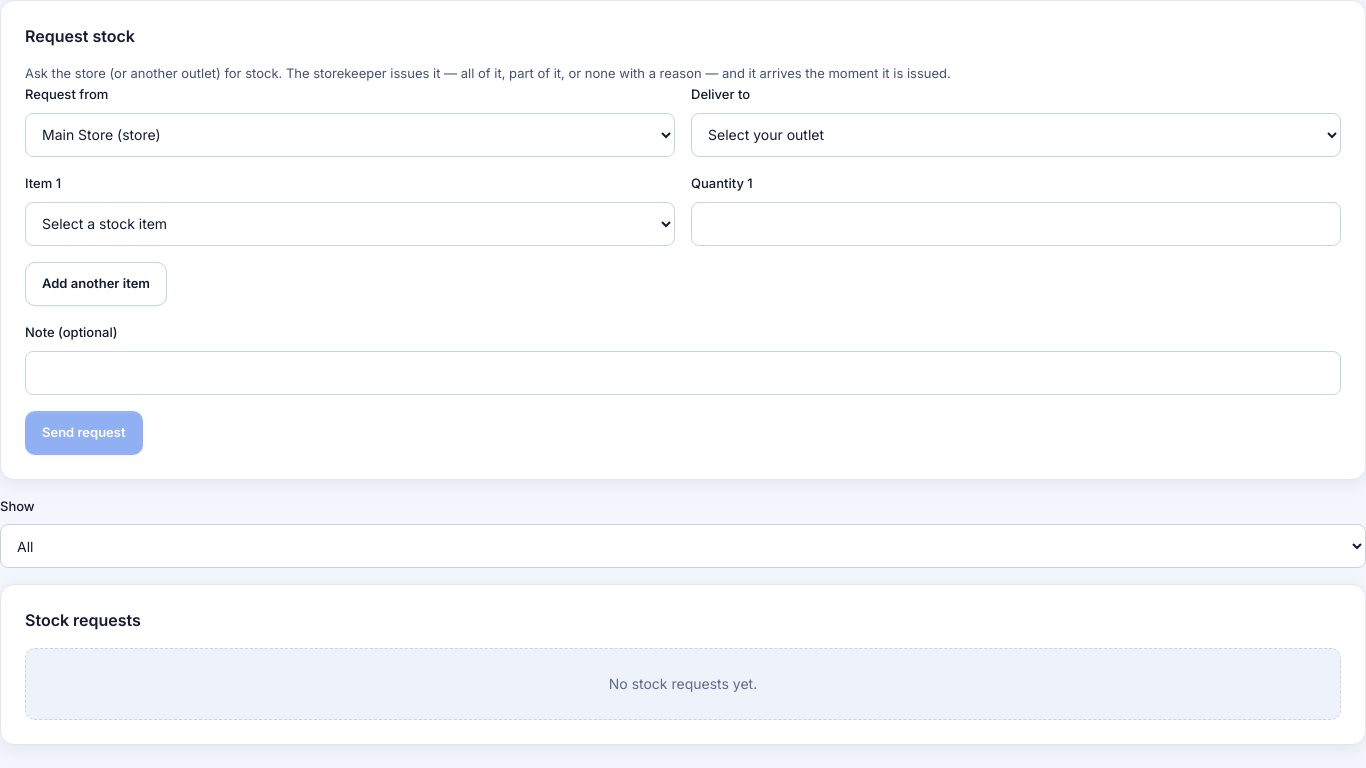
Test: <StockRequestsTab> › raising a request › everyone else keeps the free form › a restricted user assigned to the bar AND the mart: choosing the mart switches the supplier to the store and clears the lines
The width and height of the screenshot is (1366, 768).
Select "Main Bar" in the dropdown labelled "Request from". click: (350, 135)
box: top-left (25, 113), bottom-right (675, 157)
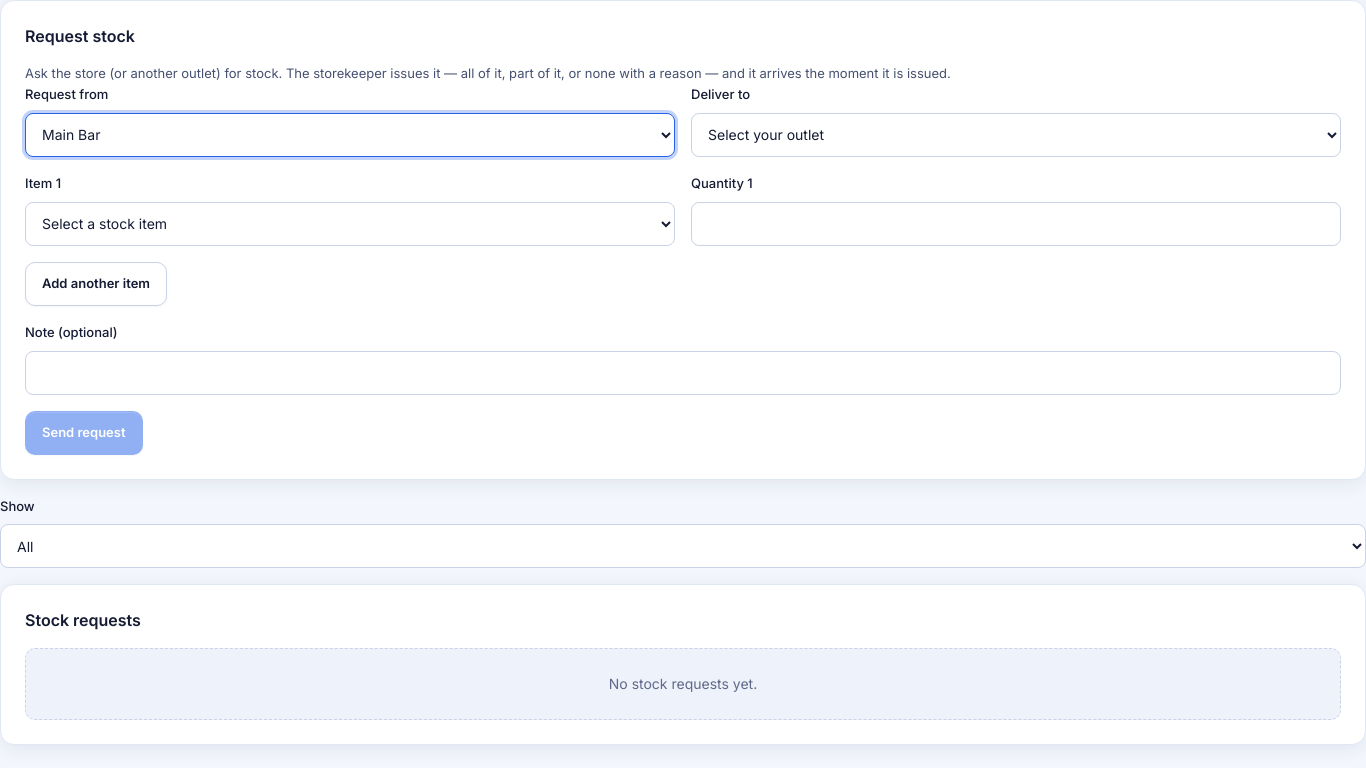
Select "Main Bar" in the dropdown labelled "Deliver to". click: (1016, 135)
box: top-left (691, 113), bottom-right (1341, 157)
Select "Gin (bottle)" in the dropdown labelled "Item 1". click: (350, 224)
box: top-left (25, 202), bottom-right (675, 246)
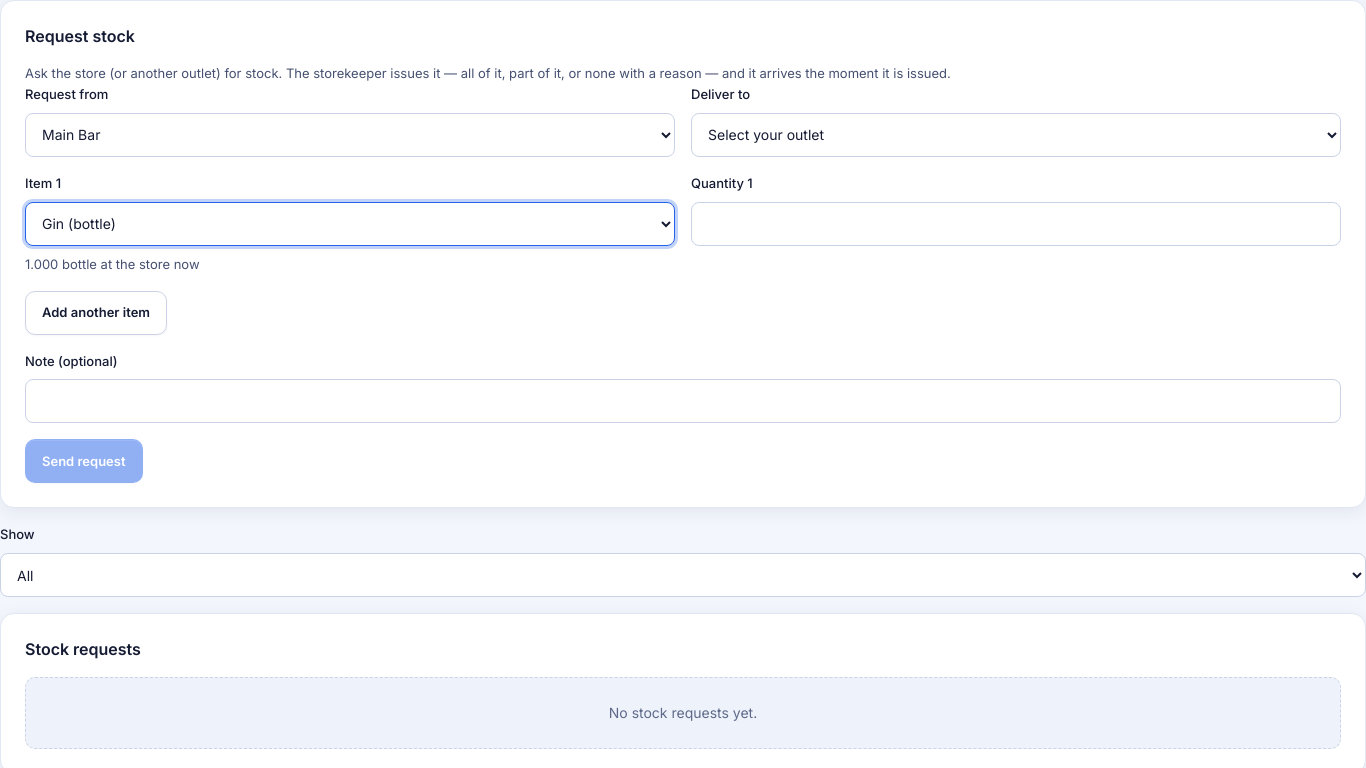
Select "Mini Mart" in the dropdown labelled "Deliver to". click: (1016, 135)
box: top-left (691, 113), bottom-right (1341, 157)
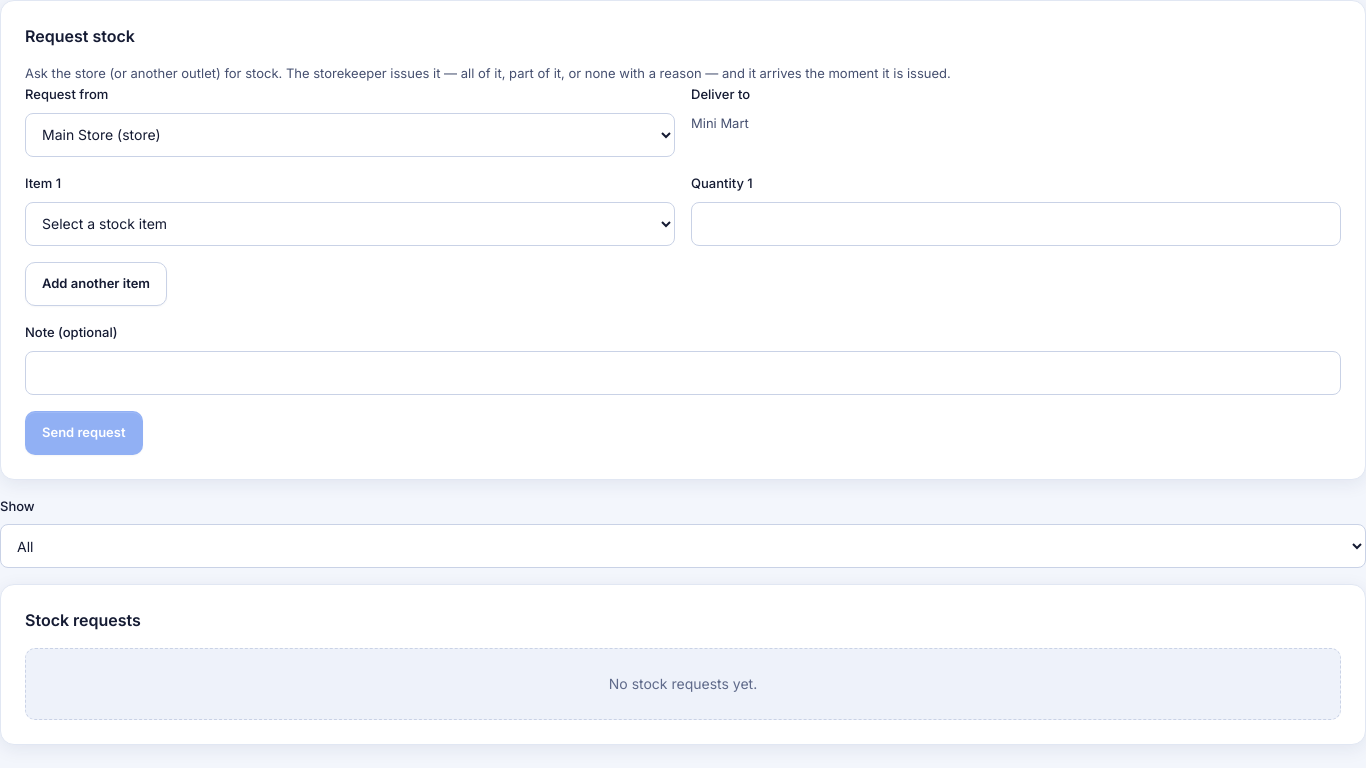
Result: the dropdown labelled "Item 1" shows "Select a stock item" at top-left (25, 202), bottom-right (675, 246)
